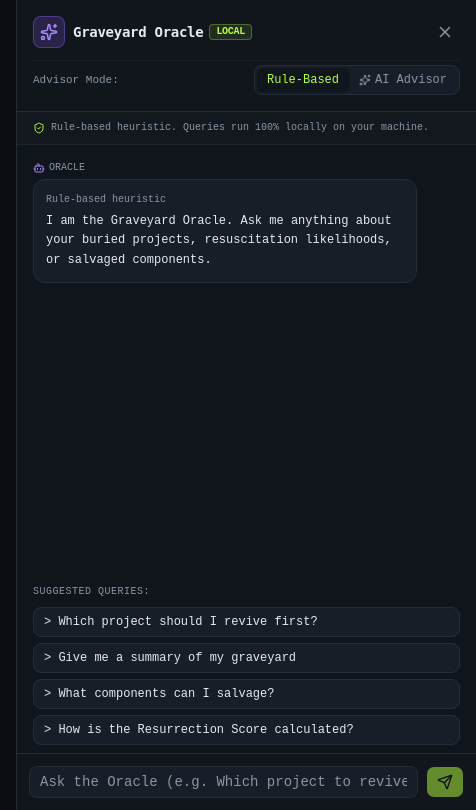
OraclePanel Component › gracefully falls back to local heuristic and displays notice banner if AI fails
# Switch to AI mode
Click the button "AI Advisor" at (403, 80), box [349,68,457,92]
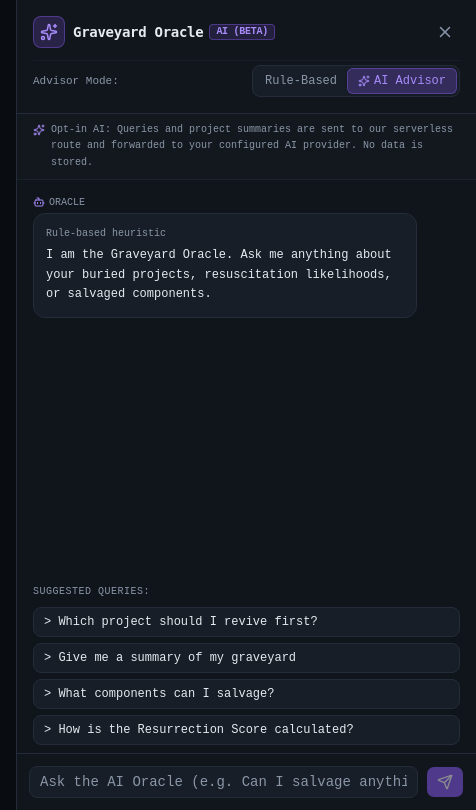
Replace the text in the field with placeholder "Ask the AI Oracle" with "help" at (224, 782), box [29,766,418,798]
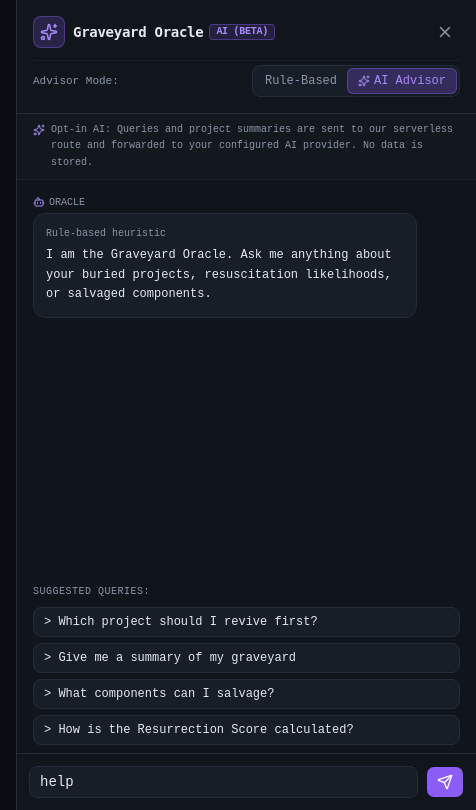
Click the 8th button at (445, 782), box [426,766,464,798]
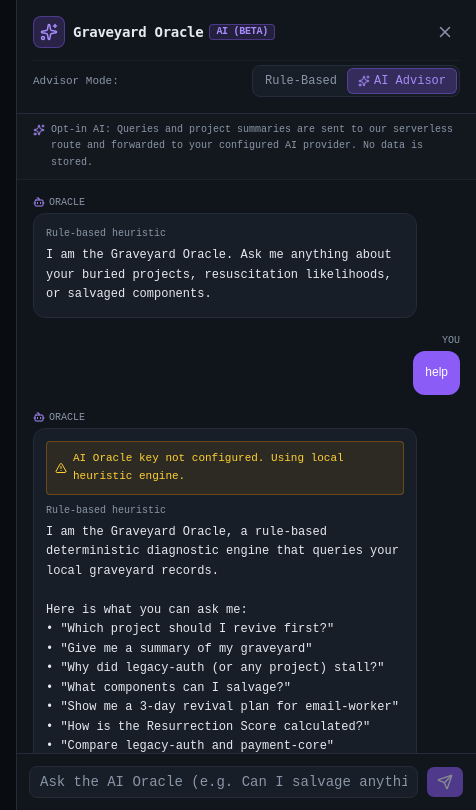
Expected: the text "AI Oracle key not configured. Using local heuristic engine." is shown, [73,450,395,486]
